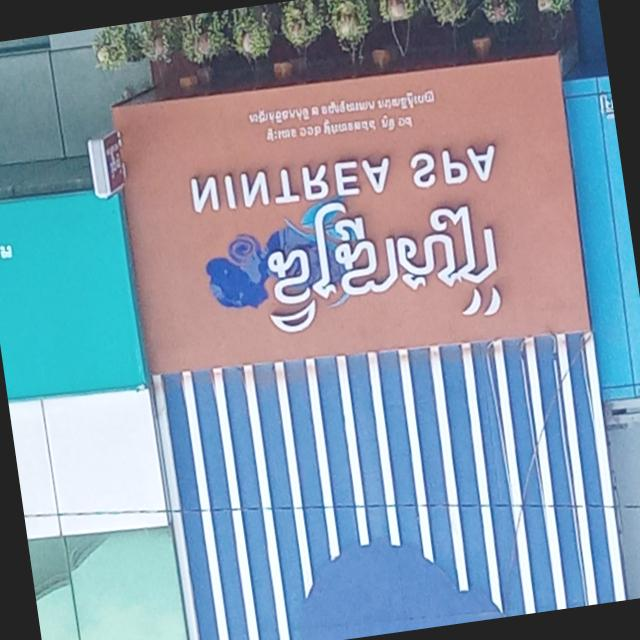Yolov11kh: (228, 183, 539, 356)
